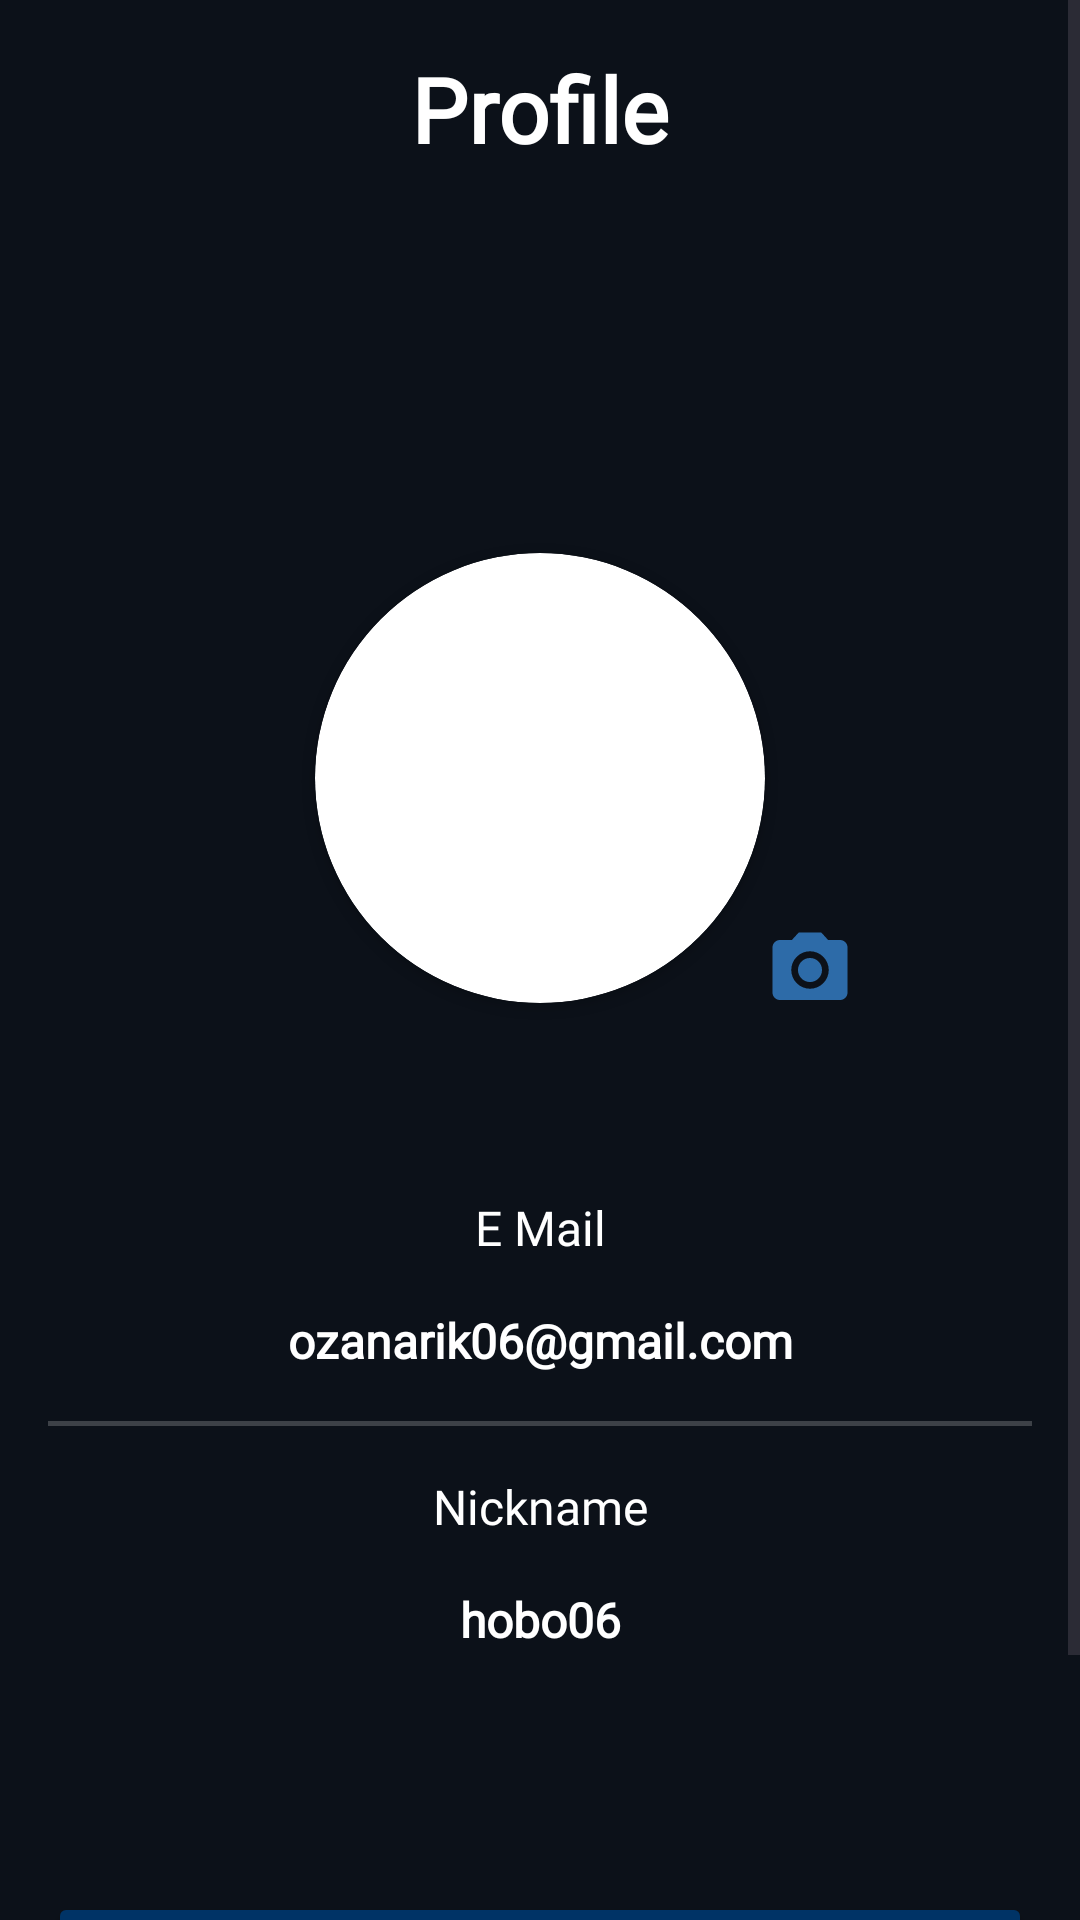

Locate icon controls on the screen. Image size 1080 × 1920, boxes as (x1, y1, x2, y2).
camera: (772, 932, 848, 1000)
